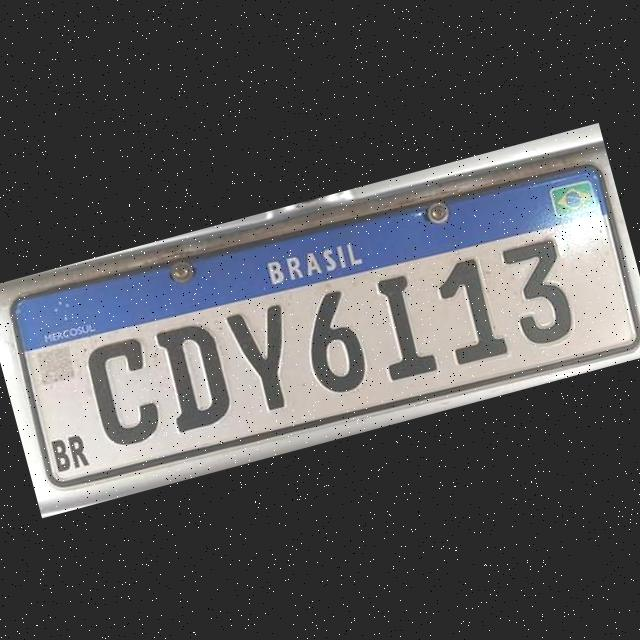Caractere: (150, 314, 238, 435), (80, 331, 168, 452), (494, 230, 582, 350), (224, 296, 308, 418), (292, 284, 376, 401), (366, 268, 442, 384), (430, 252, 505, 368)
Placa: (1, 138, 640, 504)
